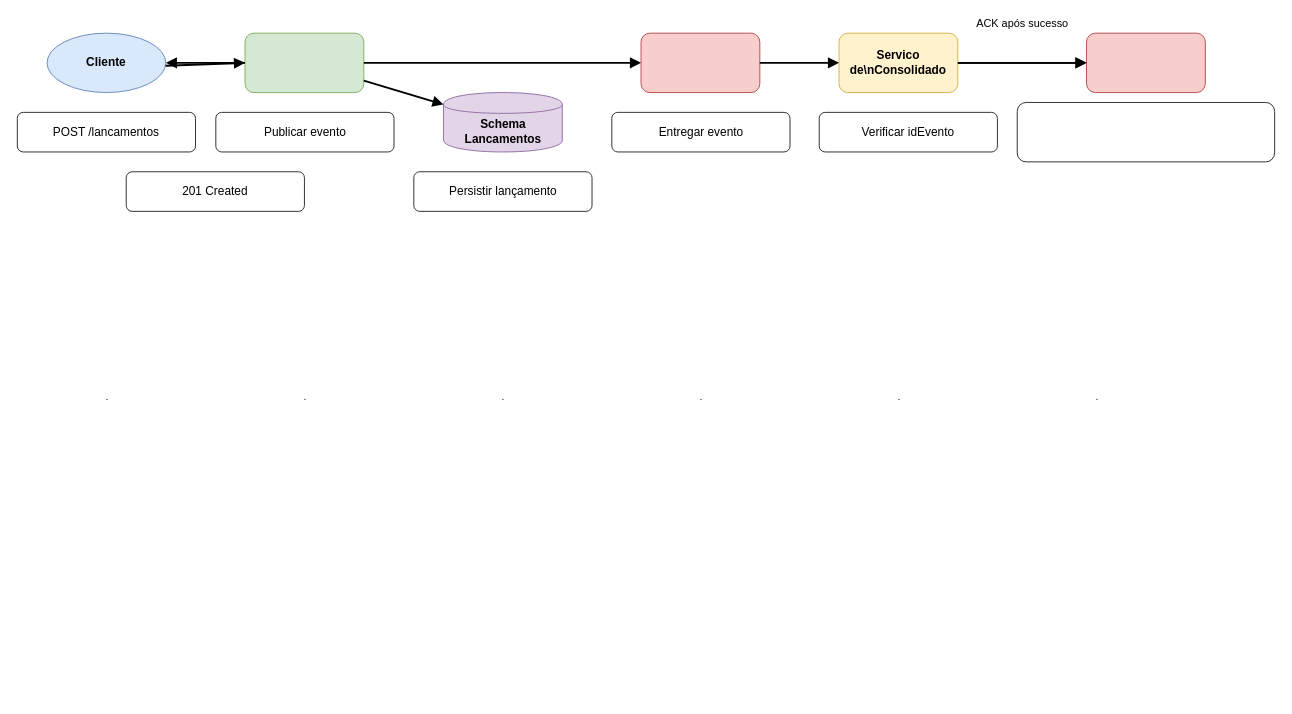
This 1292x714 diagram has some shape labels left out. Each missing label, with the centre of its shape:
"Evento novo: atualiza saldo\ne registra processamento" belongs at [1145,131].
"Eventos Processados" belongs at [1145,62].
"RabbitMQ" belongs at [700,62].
"Servico de Lancamentos" belongs at [304,62].
